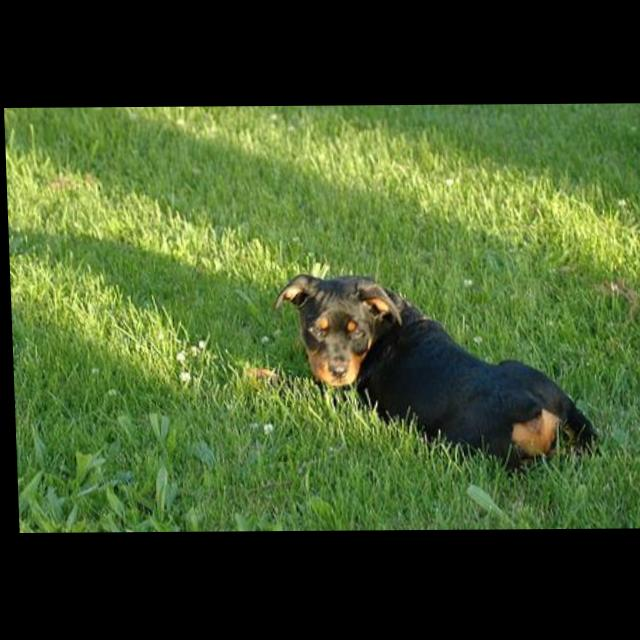rottweiler: (270, 272, 598, 475)
